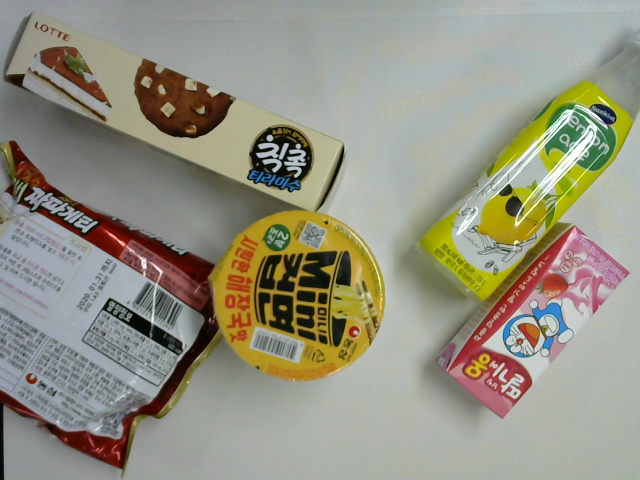Chicchok_Tiramisu: (1, 11, 353, 219)
Hejangmini: (205, 204, 387, 385)
Sichuan_Chapaghetti: (1, 143, 222, 472)
Strawberry_E_Mong: (436, 219, 636, 422)
Sunkist_Lemonaid_Pet: (408, 26, 640, 309)
